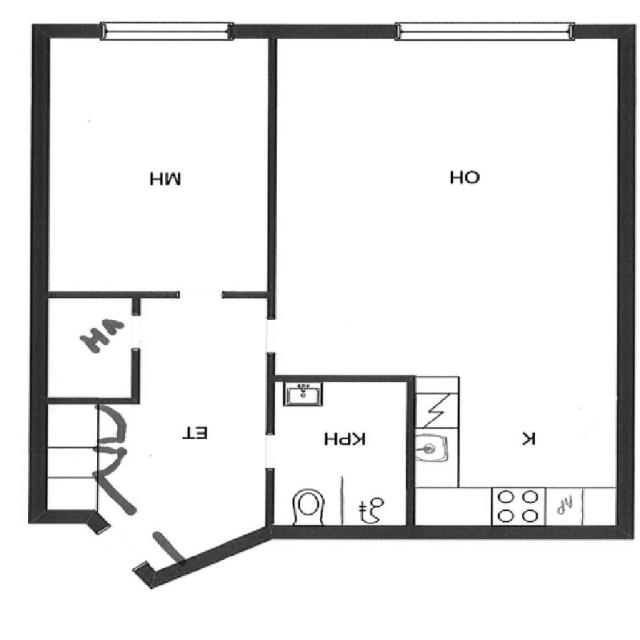door: (90, 447, 124, 474)
window: (92, 18, 238, 47), (398, 26, 580, 48), (170, 285, 231, 304), (124, 310, 149, 356), (260, 314, 282, 358)
zone: (272, 24, 619, 339), (37, 31, 273, 297), (413, 344, 623, 532), (108, 293, 270, 526), (268, 378, 411, 530), (39, 293, 139, 401), (38, 404, 118, 524)
